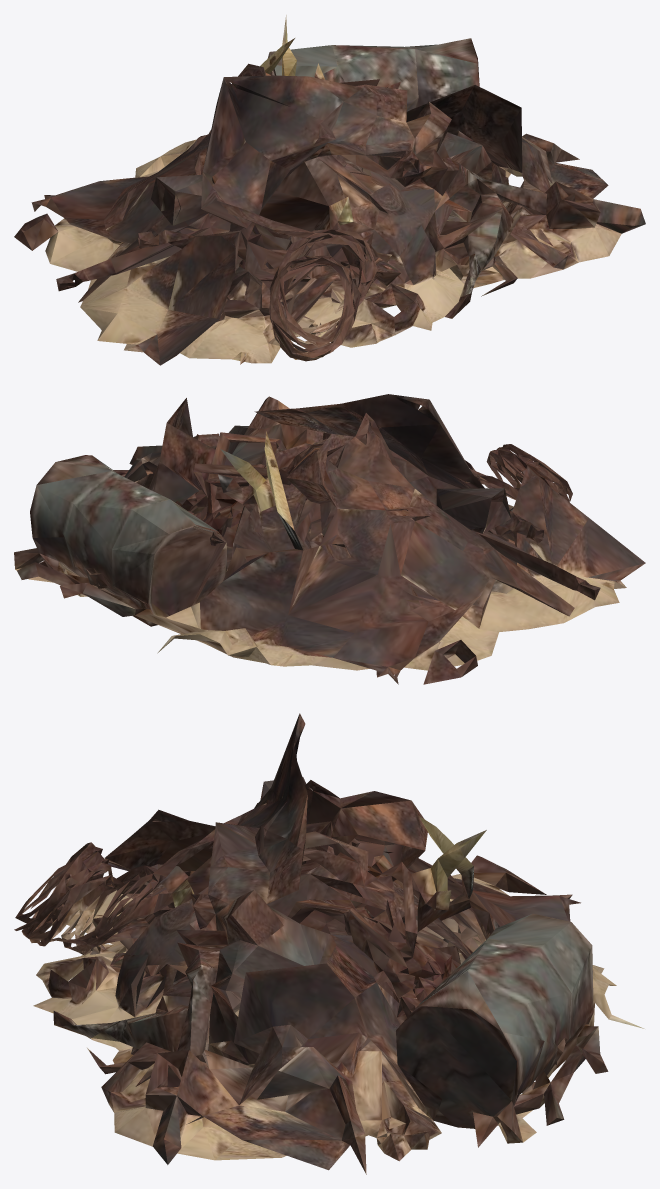
The model's file is scrap_heap.glb.
3 renders of one model, top to bottom at view 1: azimuth 30°, elevation 25°; view 2: azimuth 150°, elevation 25°; view 3: azimuth 270°, elevation 25°, orthographic. The views are drawn at different scales.
Visible parts, largest first — view 1: mesh_node; view 2: mesh_node; view 3: mesh_node.
Part boxes in pixels (<box>): mesh_node: <box>14,15,645,365</box>; mesh_node: <box>14,394,645,684</box>; mesh_node: <box>14,713,644,1174</box>.
Size of the model in its own units: 1.9 by 0.6534 by 1.55.
1 material, 1 textured.
